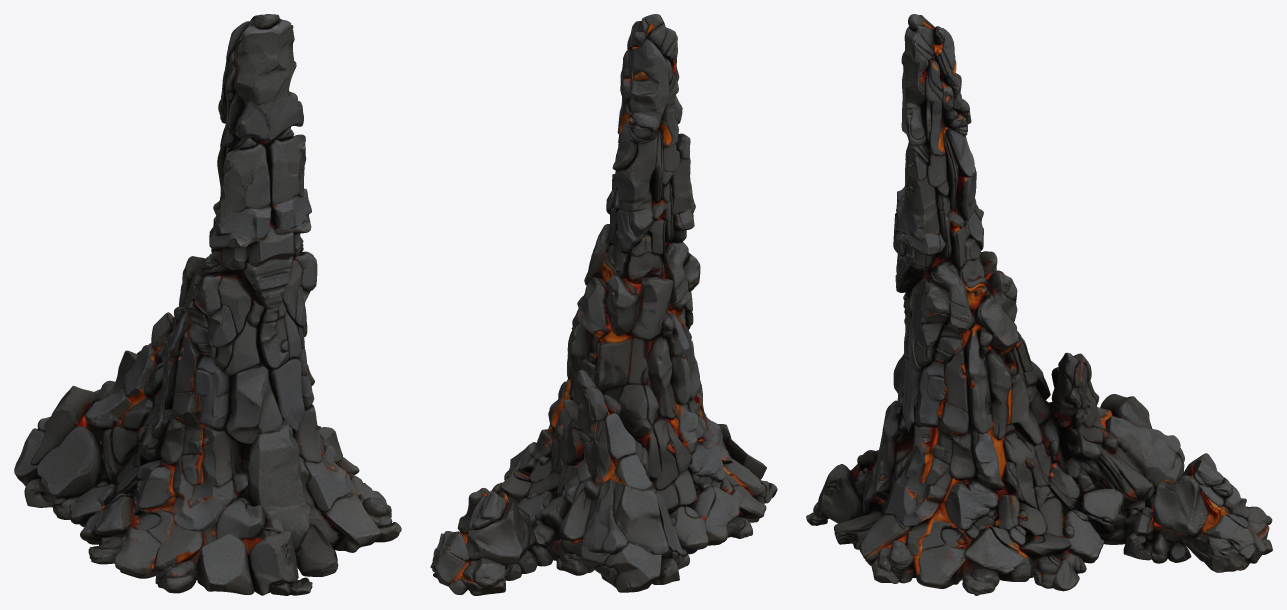
File: venus_spire.glb
3 renders of one model, left to right at view 1: azimuth 30°, elevation 25°; view 2: azimuth 150°, elevation 25°; view 3: azimuth 270°, elevation 25°, orthographic. The views are drawn at different scales.
Parts seen in each view (by area): view 1: tripo_node_9df2d169-3ef3-4caf-b0a4-96e5393262c8; view 2: tripo_node_9df2d169-3ef3-4caf-b0a4-96e5393262c8; view 3: tripo_node_9df2d169-3ef3-4caf-b0a4-96e5393262c8.
Boxes of the visible parts, left/top/right/bottom form: tripo_node_9df2d169-3ef3-4caf-b0a4-96e5393262c8: left=14, top=14, right=401, bottom=595; tripo_node_9df2d169-3ef3-4caf-b0a4-96e5393262c8: left=430, top=14, right=777, bottom=595; tripo_node_9df2d169-3ef3-4caf-b0a4-96e5393262c8: left=806, top=14, right=1272, bottom=595.
Bounding box in the file's own units: 0.5298 × 0.9788 × 0.7963.
1 material, 1 textured.
